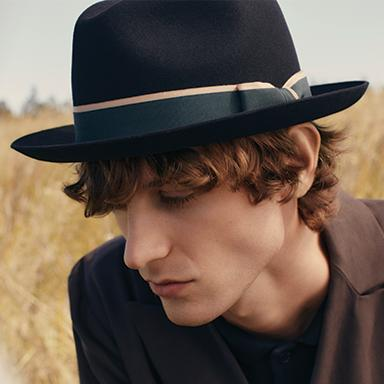cap: (6, 5, 384, 161)
